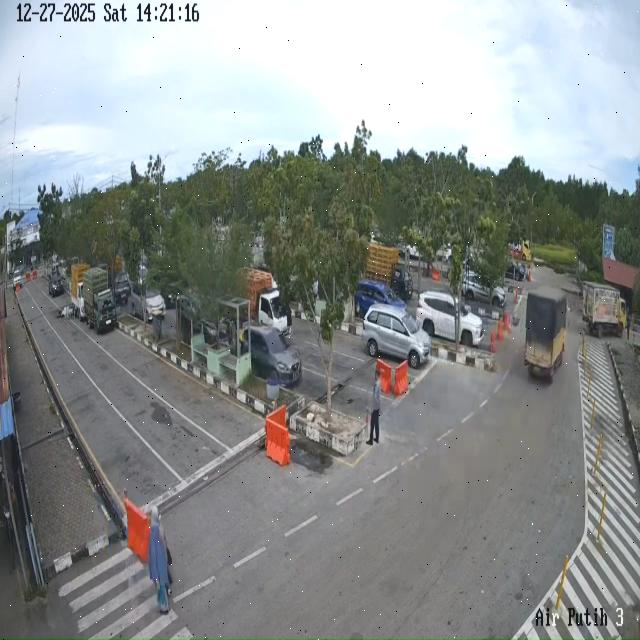Golongan IVA: (362, 304, 431, 369), (416, 291, 484, 347), (250, 326, 302, 386), (354, 279, 406, 318), (462, 271, 506, 307), (129, 282, 166, 322), (48, 270, 65, 298)
Golongan IVB: (82, 267, 117, 334), (70, 263, 90, 321)
Golongan VB: (525, 286, 567, 381), (242, 269, 292, 337), (582, 282, 627, 338)
